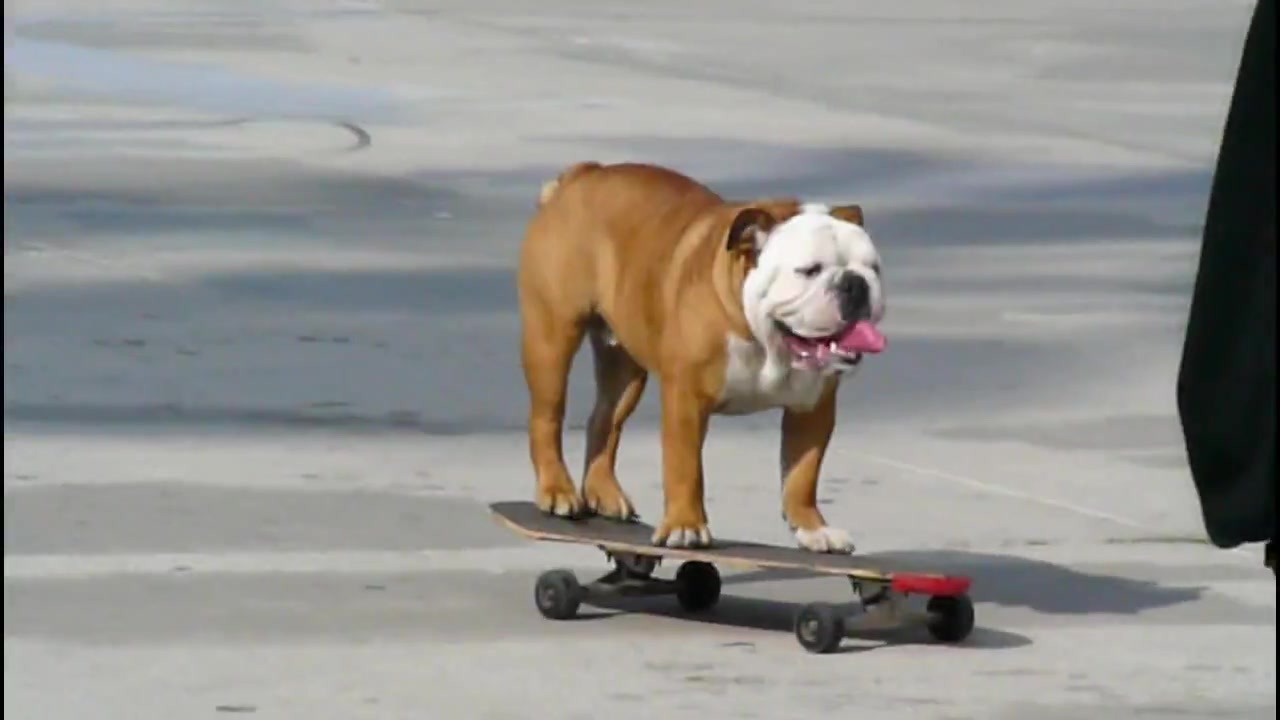dog: (519, 161, 892, 560)
